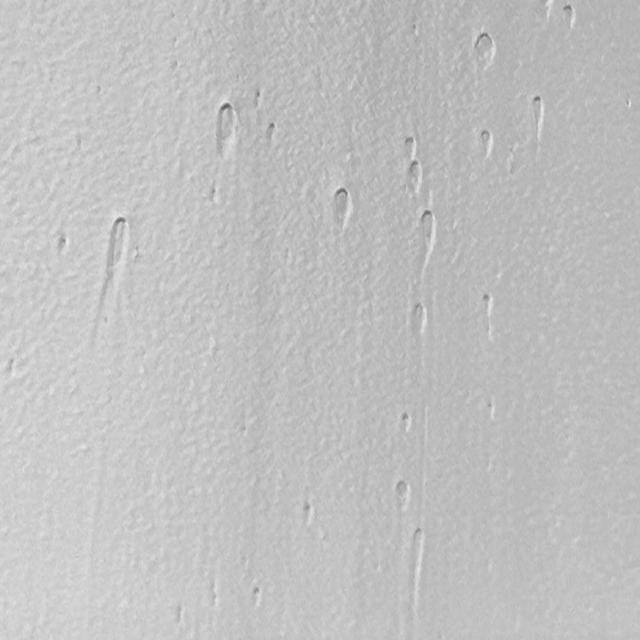pin holes: (405, 526, 429, 634), (100, 210, 128, 282), (210, 104, 240, 154), (329, 185, 353, 228), (414, 209, 438, 250), (472, 32, 496, 68), (528, 96, 549, 132), (408, 302, 430, 336), (391, 478, 412, 512), (474, 128, 495, 158), (561, 1, 580, 30), (406, 159, 423, 191), (478, 290, 497, 316), (396, 411, 414, 437), (536, 1, 554, 27), (481, 396, 498, 421), (300, 500, 316, 526), (401, 135, 419, 158), (207, 583, 224, 607), (55, 233, 70, 258), (207, 185, 224, 207), (251, 584, 265, 606), (266, 121, 279, 142), (253, 89, 265, 109), (623, 96, 634, 112)
